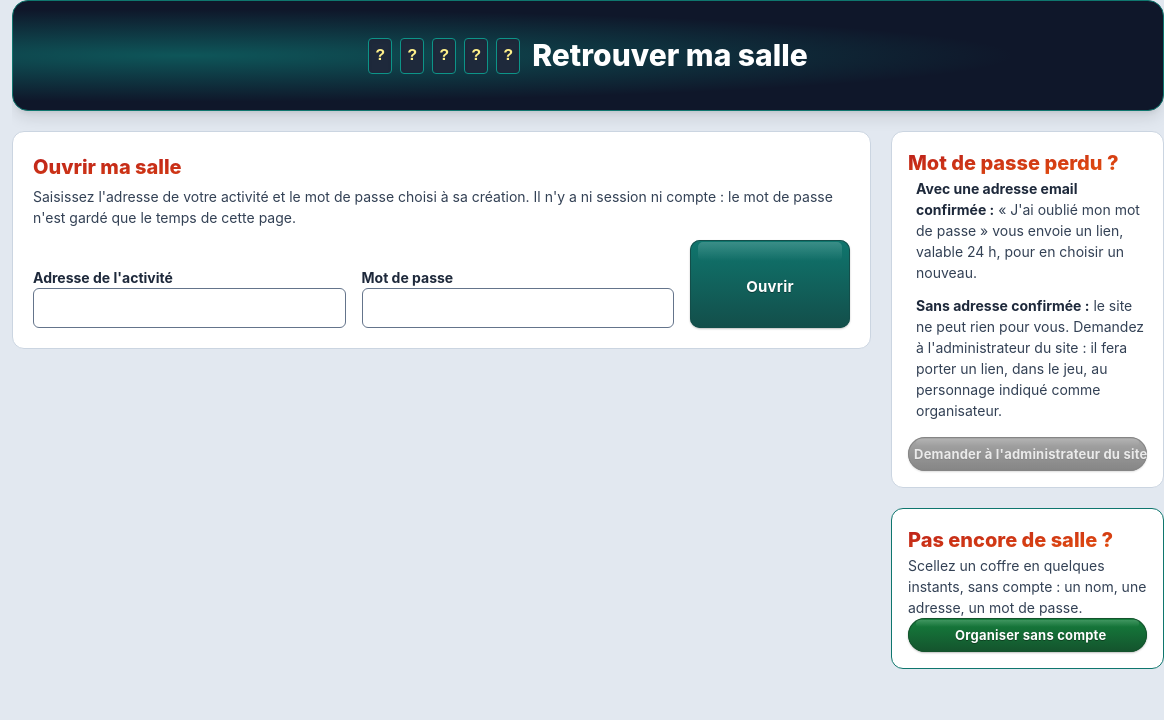
Test: DecodeManageView › propose de créer une activité, et « Quitter » referme la carte
Type "les-trois-coffres" into the field with test id "manage-slug" at x=189, y=308, box [33, 288, 346, 328]
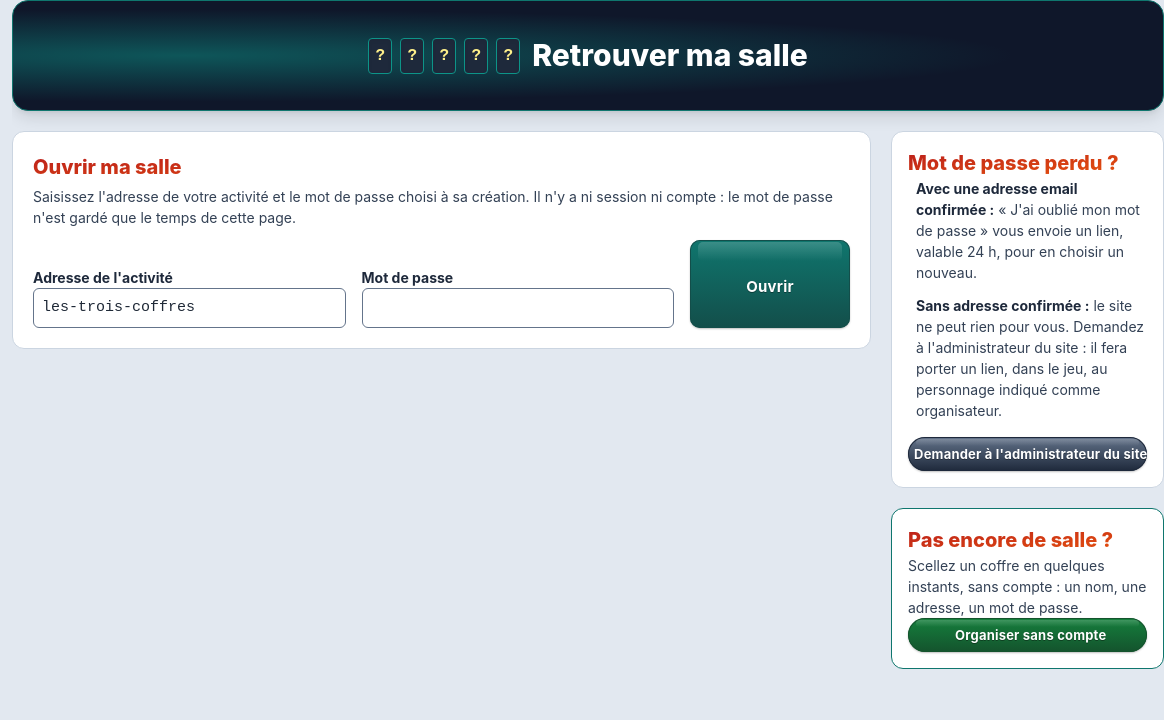
Type "un-bon-mot-de-passe" into the password field with test id "manage-password" at x=518, y=308, box [362, 288, 674, 328]
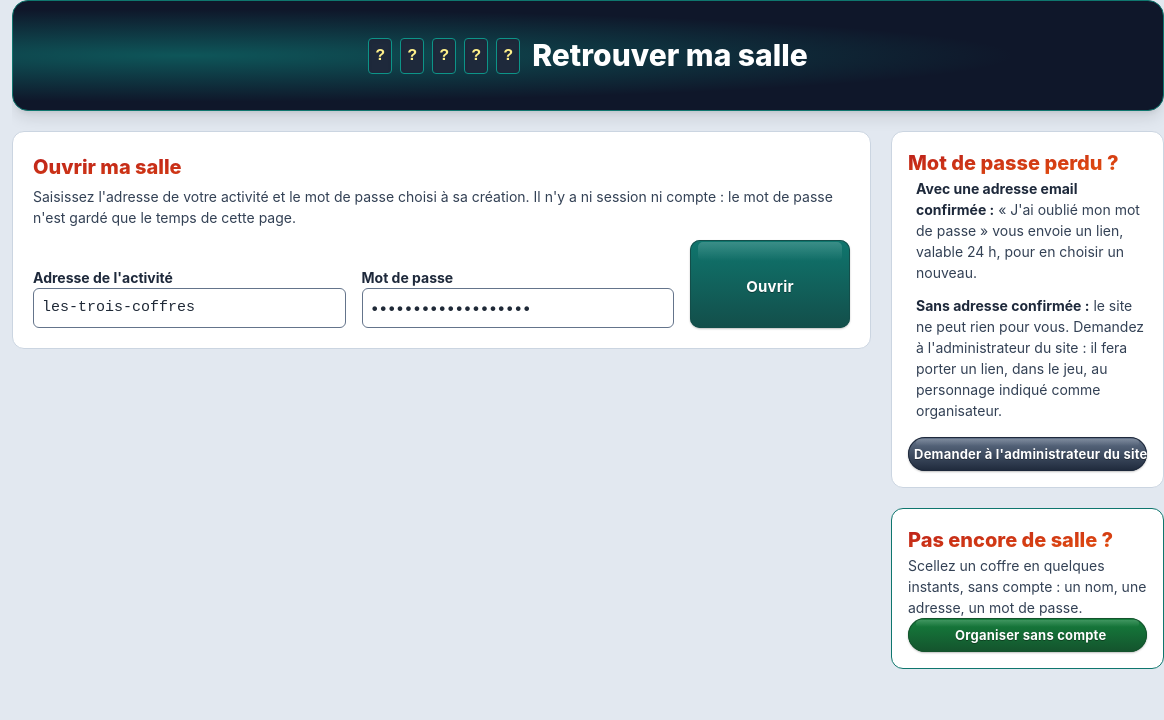
Submit the form, box [33, 240, 850, 328]
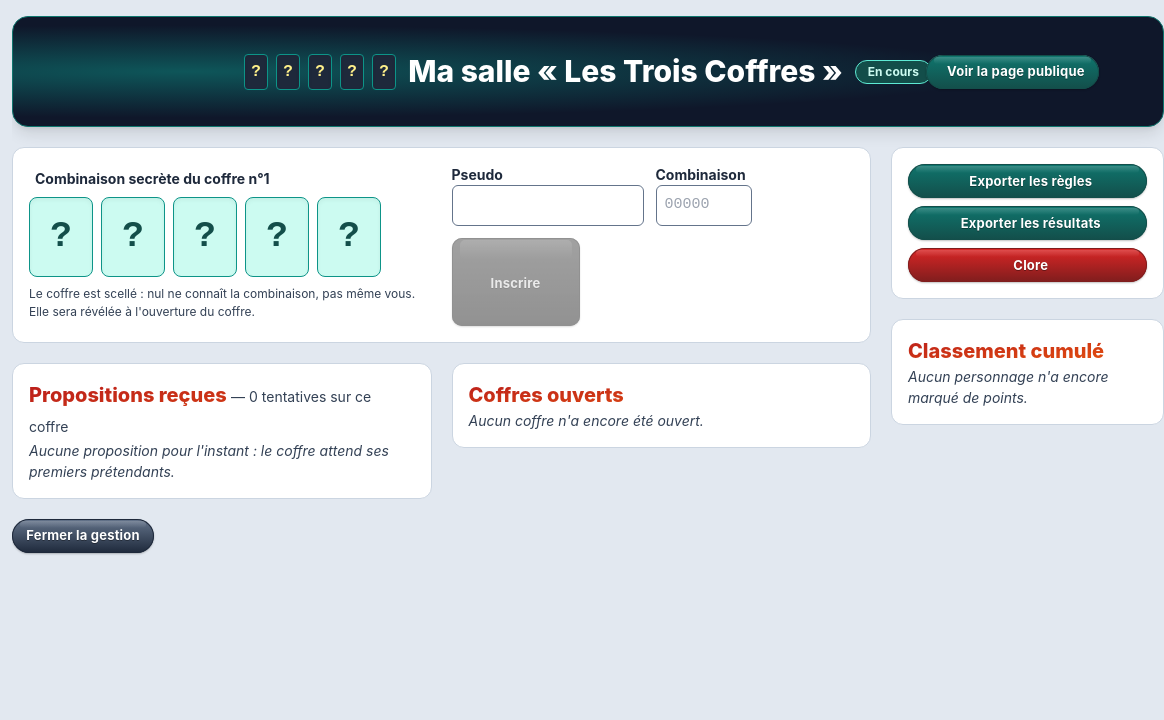
Click the button with test id "manage-leave" at x=83, y=536, box [12, 518, 154, 552]
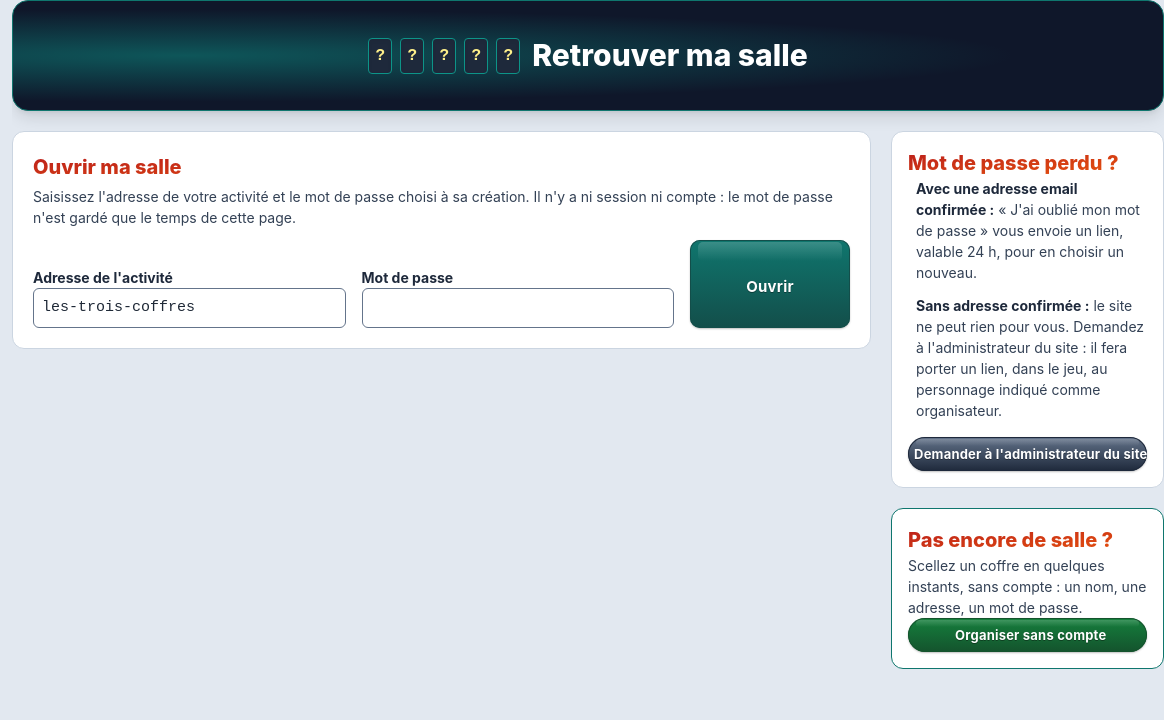
Expected: the element with test id "manage-form" is shown, [12, 131, 871, 349]
Expected: the password field with test id "manage-password" is empty, [362, 288, 674, 328]
